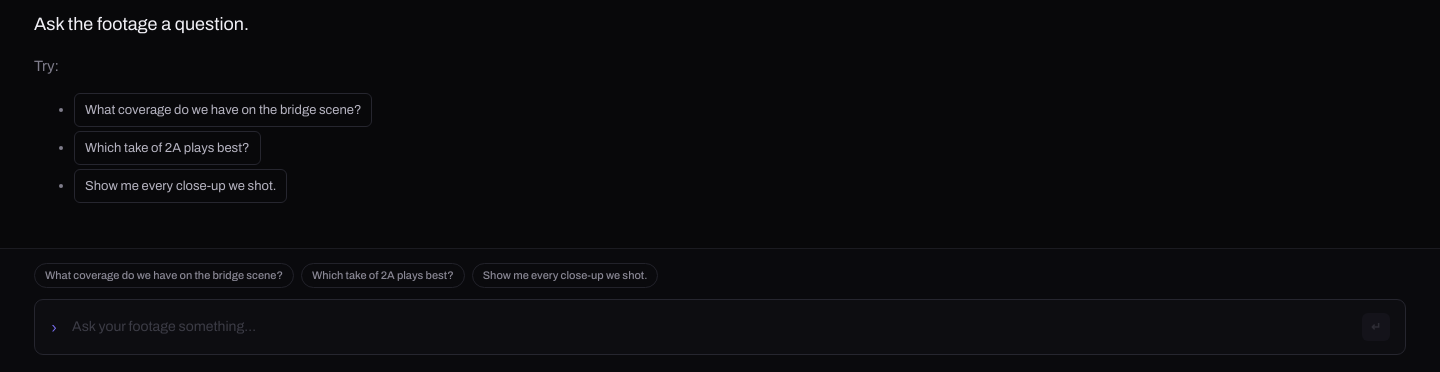
Scenario: SessionView › clicking an empty-state prompt populates the composer without sending
Click the button "What coverage do we have on the bridge scene?" below "Try:".
click(223, 110)  # box [74,93,372,127]
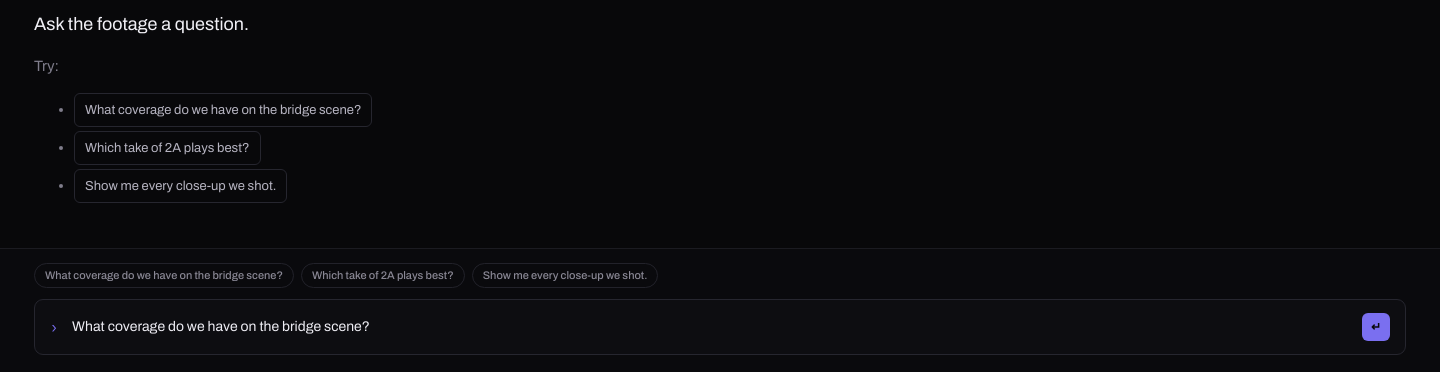
Now the text box named "Ask your footage something" holds "What coverage do we have on the bridge scene?", box [70,316,1350,339]
